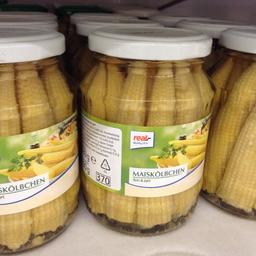corn: (76, 24, 214, 234), (0, 25, 80, 254), (202, 26, 255, 220)
